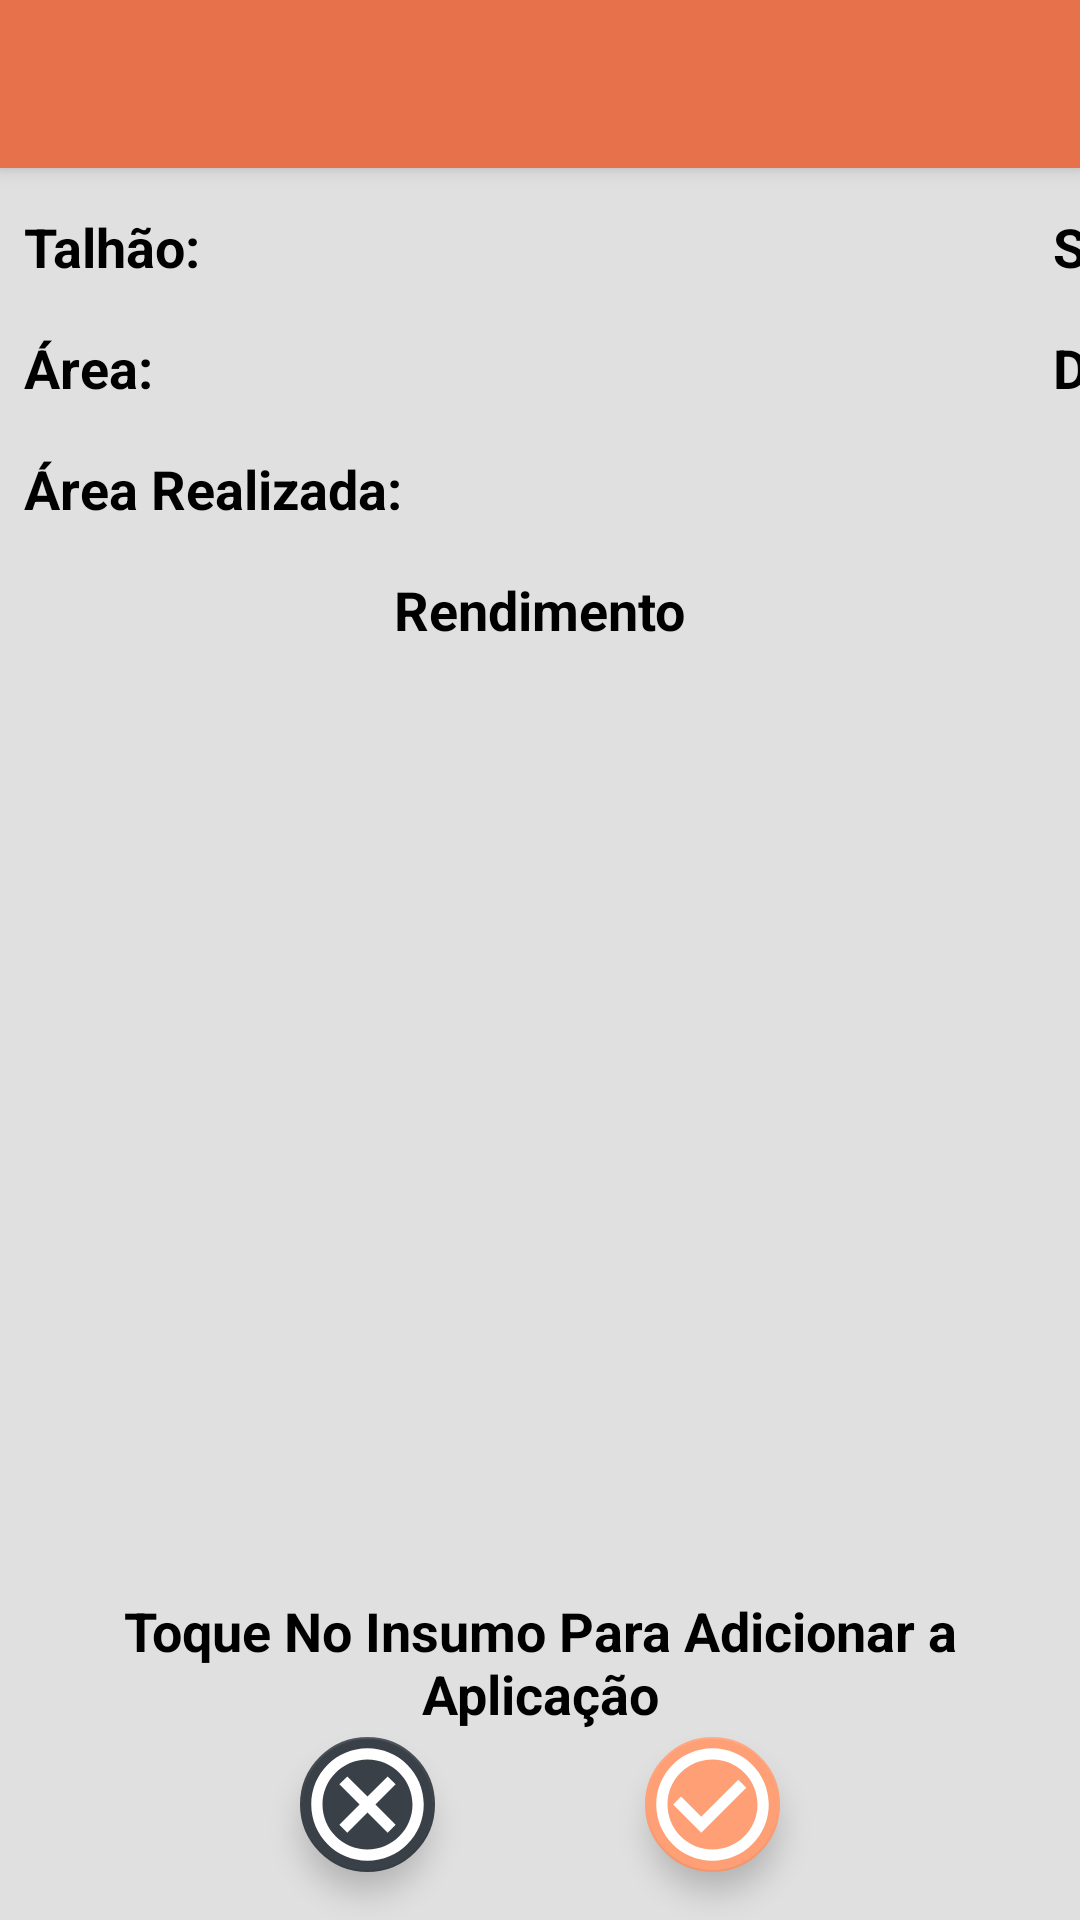

Point at icon controls on the screen. Image size 1080px×1920px, points as [x,y].
botao cancelar registros: [367,1804]
botao finalizar registro: [712,1804]
